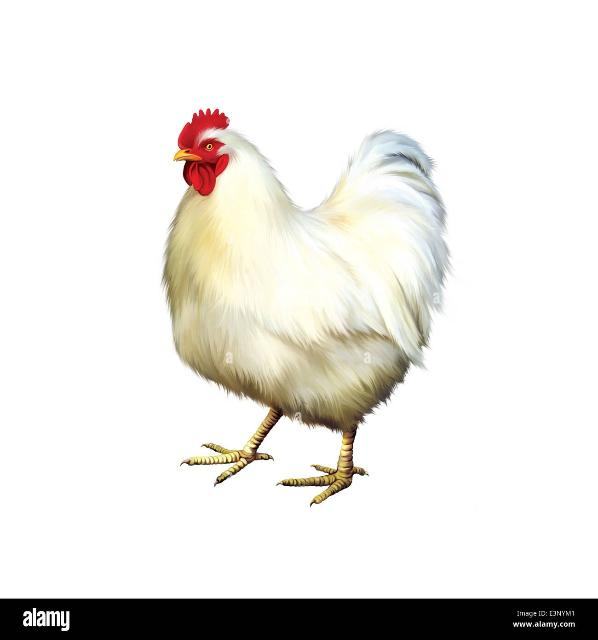Chicken: (163, 109, 452, 509)
